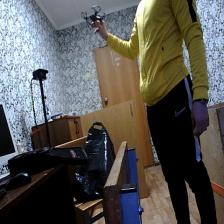drone: (78, 2, 108, 32)
